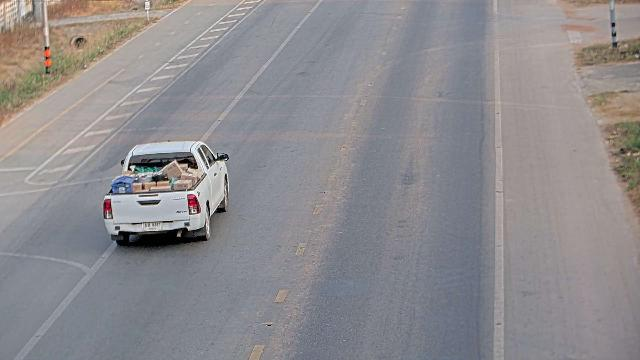pickup-truck: (102, 139, 230, 245)
